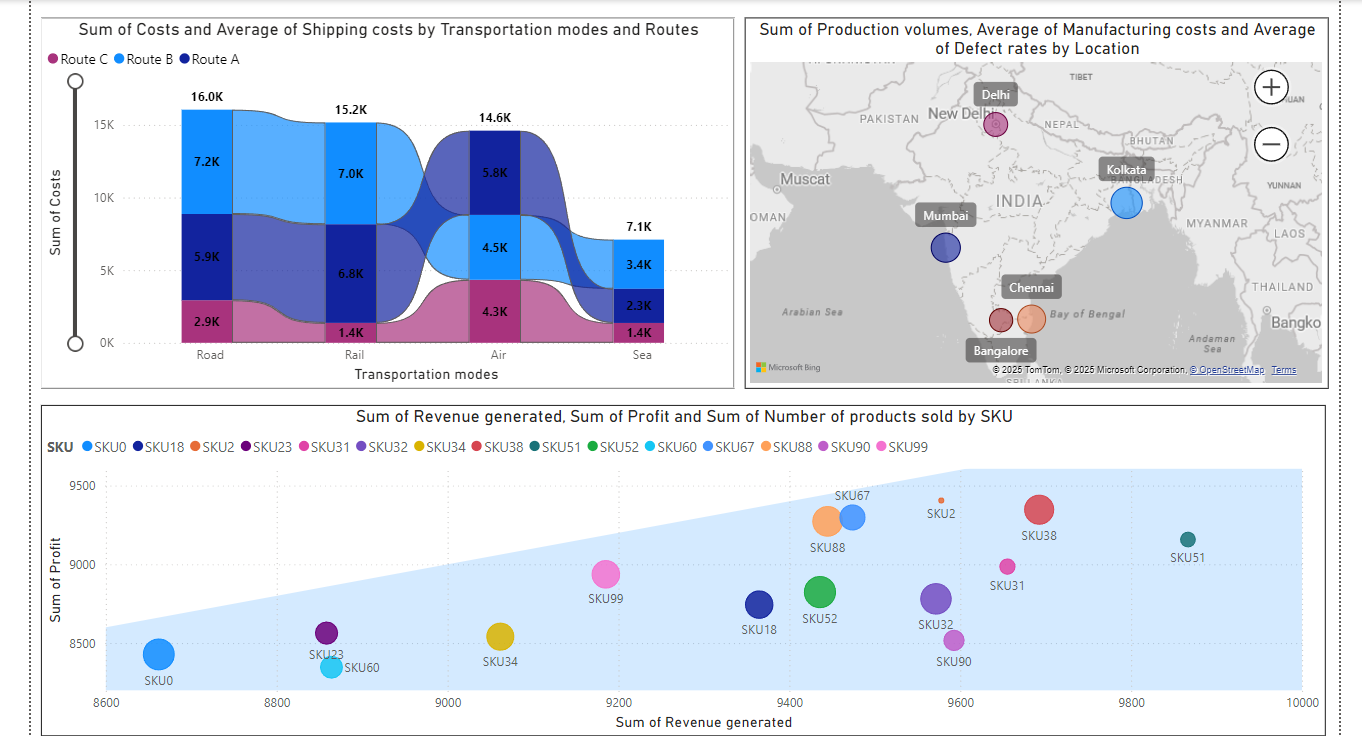

The page's visual inventory and layout, read from the dashboard file:
{"tool":"powerbi","page":{"name":"Page 2","canvas":[1280,720],"ordinal":1},"visuals":[{"type":"map","title":"Sum of Production volumes, Average of Manufacturing costs and Average of Defect rates by Location","fields":{"Size":["Sum(scm_analysis.Production volumes)"],"Category":["scm_analysis.Location"]},"box":[698.2,17.1,571.1,363.2],"z":0},{"type":"ribbonChart","fields":{"Category":["scm_analysis.Transportation modes"],"Series":["scm_analysis.Routes"],"Y":["Sum(scm_analysis.Costs)"]},"box":[9.8,17.1,678.7,363.2],"z":1000},{"type":"scatterChart","fields":{"X":["Sum(scm_analysis.Revenue generated)"],"Y":["Sum(scm_analysis.Profit)"],"Size":["Sum(scm_analysis.Number of products sold)"],"Series":["scm_analysis.SKU"]},"box":[9.8,396.2,1257.1,324.1],"z":2000}]}

Visuals, with their boxes on the page's 1280x720 design canvas (x1, y1, x2, y2). These are canvas units, not pixel positions in the 1362x736 screenshot, which may show the page scaled, cropped or inside an application window:
"Sum of Production volumes, Average of Manufacturing costs and Average of Defect rates by Location" map: box=[698, 17, 1269, 380]
ribbonChart - scm_analysis.Transportation modes x scm_analysis.Routes: box=[10, 17, 688, 380]
scatterChart - Sum(scm_analysis.Revenue generated) x Sum(scm_analysis.Profit): box=[10, 396, 1267, 720]
